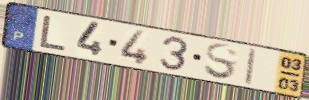3: (158, 36, 190, 72)
4: (75, 20, 108, 61), (118, 29, 150, 67)
I: (244, 47, 259, 87)
L: (38, 14, 69, 53)
S: (203, 43, 241, 82)
